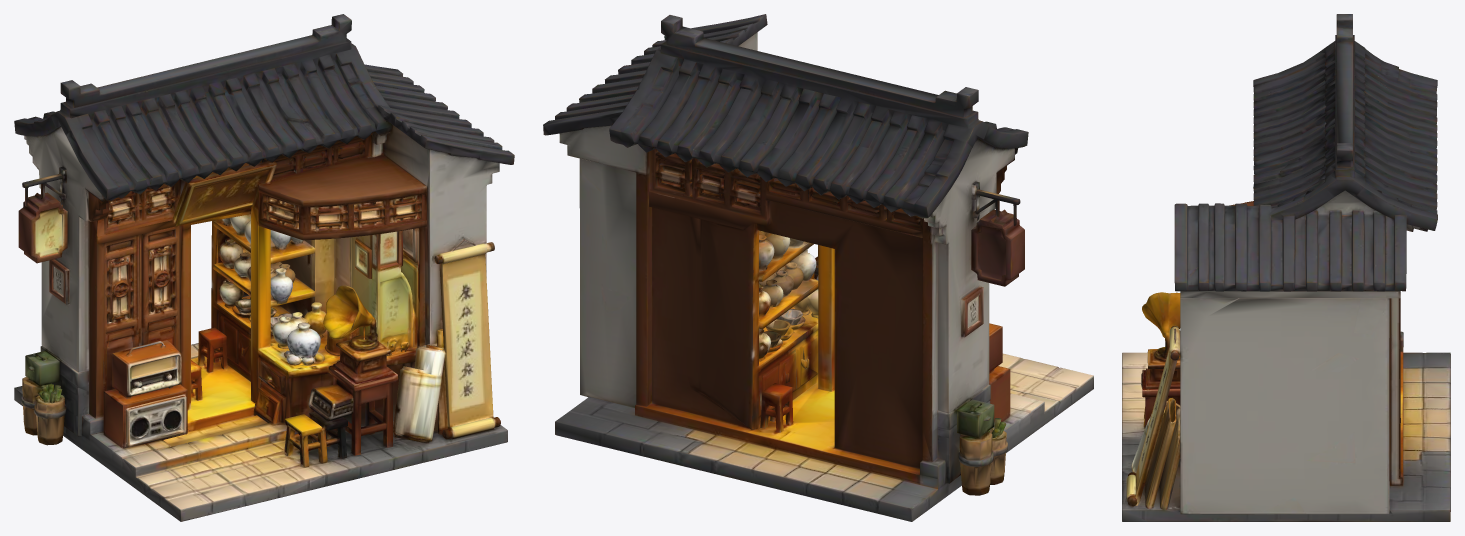
The model's file is guwandian.glb.
The picture shows the model from 3 angles, left to right: view 1: azimuth 30°, elevation 25°; view 2: azimuth 150°, elevation 25°; view 3: azimuth 270°, elevation 25°; orthographic projection. The views are drawn at different scales.
Visible parts, largest first — view 1: node_0; view 2: node_0; view 3: node_0.
Part boxes in pixels (<box>): node_0: <box>14,14,514,521</box>; node_0: <box>543,14,1093,521</box>; node_0: <box>1122,14,1450,521</box>.
Size of the model in its own units: 0.8711 by 0.7283 by 0.6211.
1 material, 1 textured.
